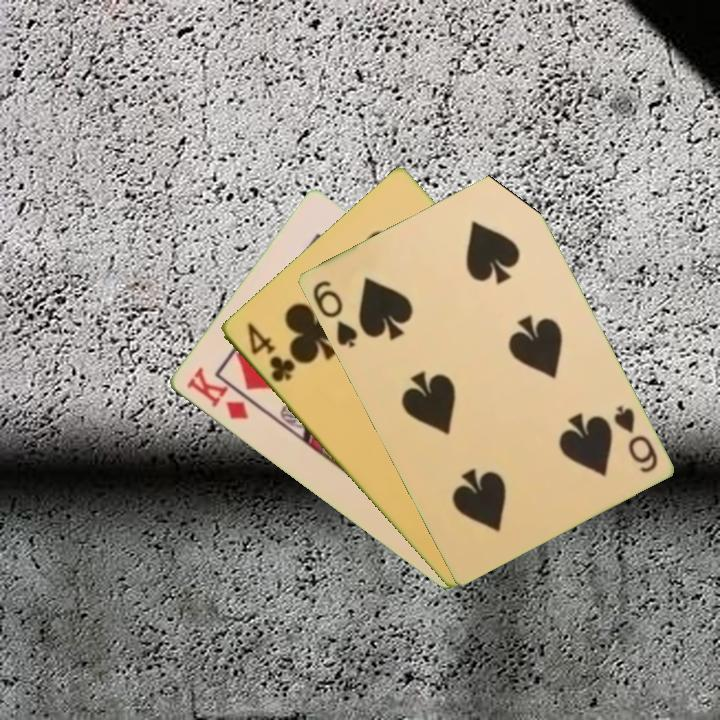4c: (242, 319, 298, 386)
6s: (308, 276, 360, 351), (609, 401, 660, 476)
Kd: (182, 363, 251, 423)
